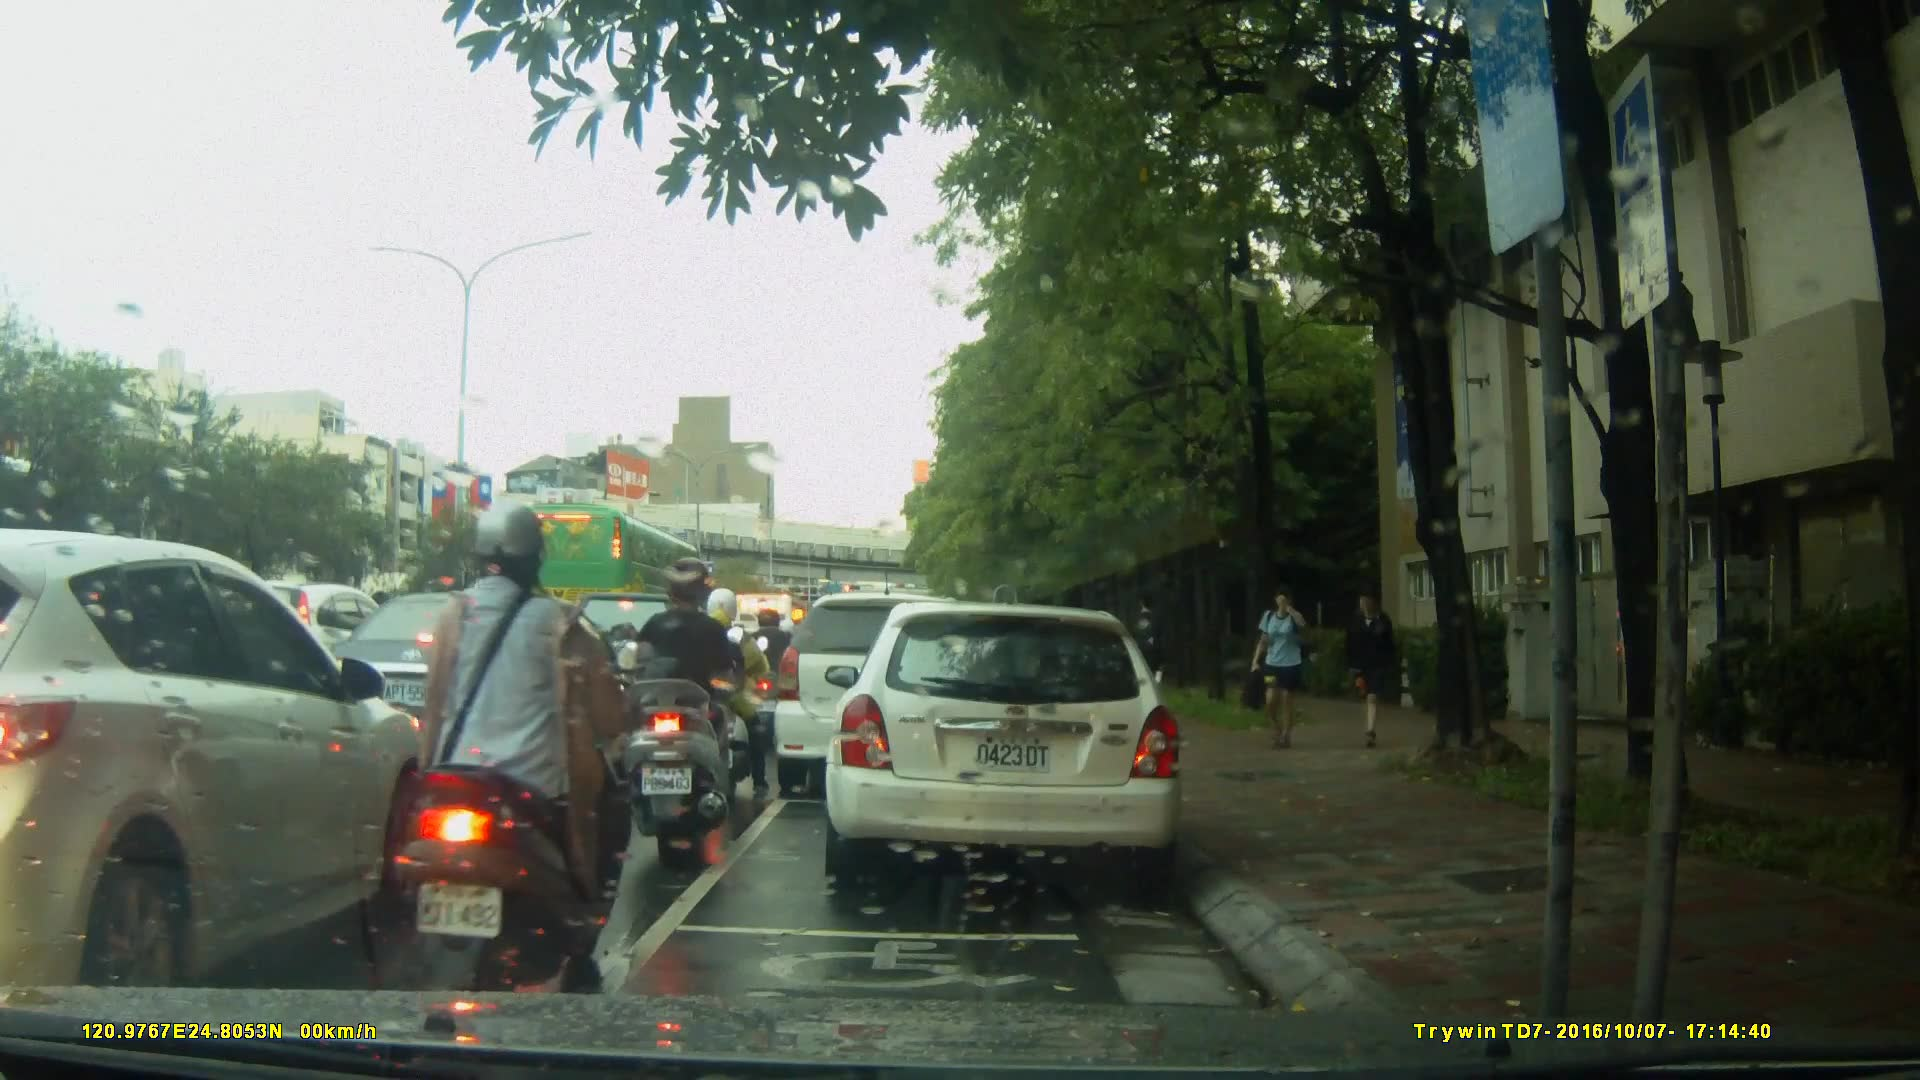pedestrian: (1227, 583, 1334, 755), (1343, 576, 1409, 759), (1124, 596, 1167, 736)
rider: (405, 500, 629, 1010), (629, 562, 744, 859), (692, 583, 777, 789), (736, 608, 803, 766)
vehicle: (1, 528, 445, 987), (831, 592, 1196, 897), (312, 590, 642, 807), (770, 592, 999, 802), (495, 501, 707, 638)
